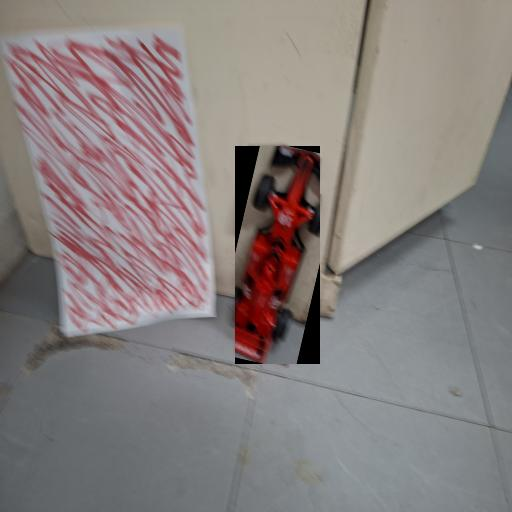carro: (236, 147, 319, 364)
